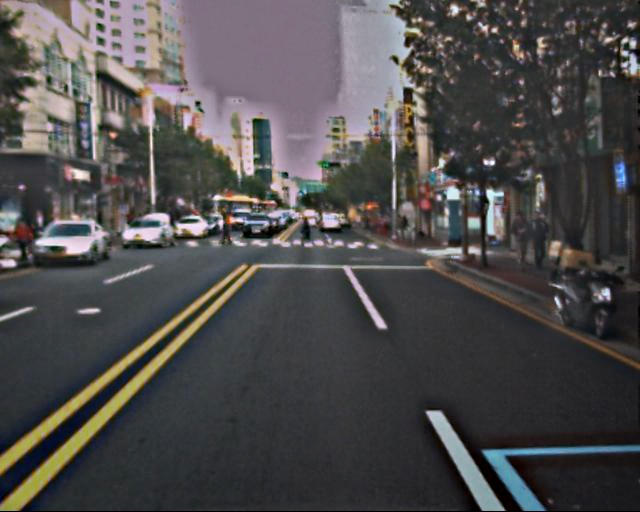person: (507, 207, 533, 270), (525, 209, 551, 272), (219, 213, 233, 246), (299, 216, 312, 248)
